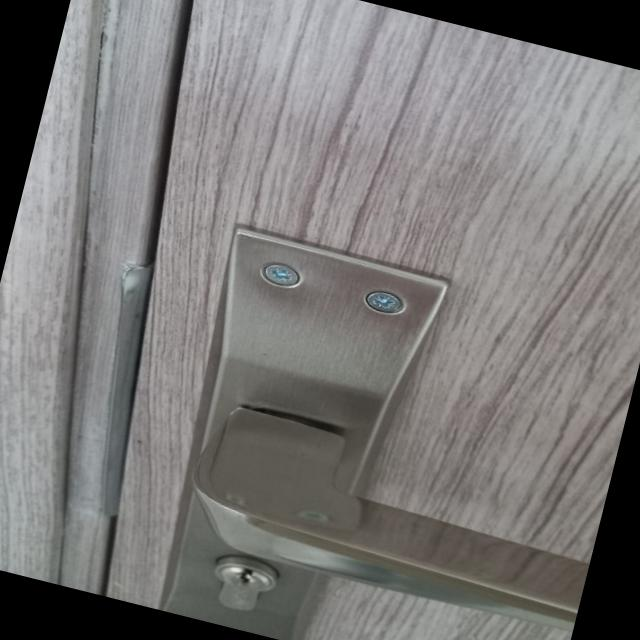Pozidriv: (253, 260, 306, 292), (364, 288, 411, 323)
